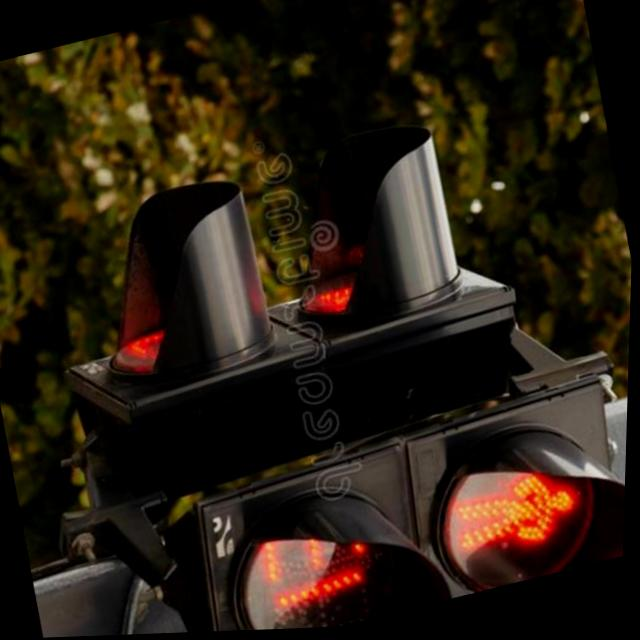red_light: (439, 458, 613, 590)
